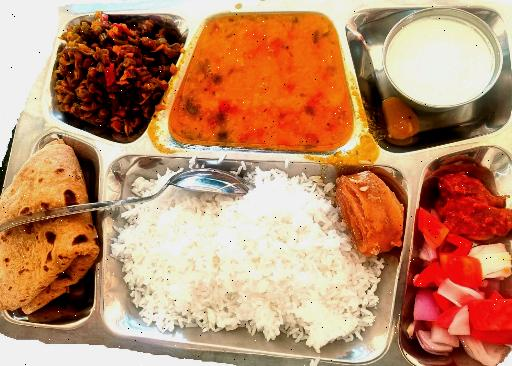Curd: (376, 7, 500, 110)
Dal: (184, 18, 348, 142)
Pickle: (425, 156, 512, 236)
Rice: (109, 162, 372, 336)
Roti: (0, 136, 100, 318)
Salad: (409, 237, 512, 366)
Sweet: (331, 166, 402, 260)
Vegetable: (56, 14, 172, 135)
